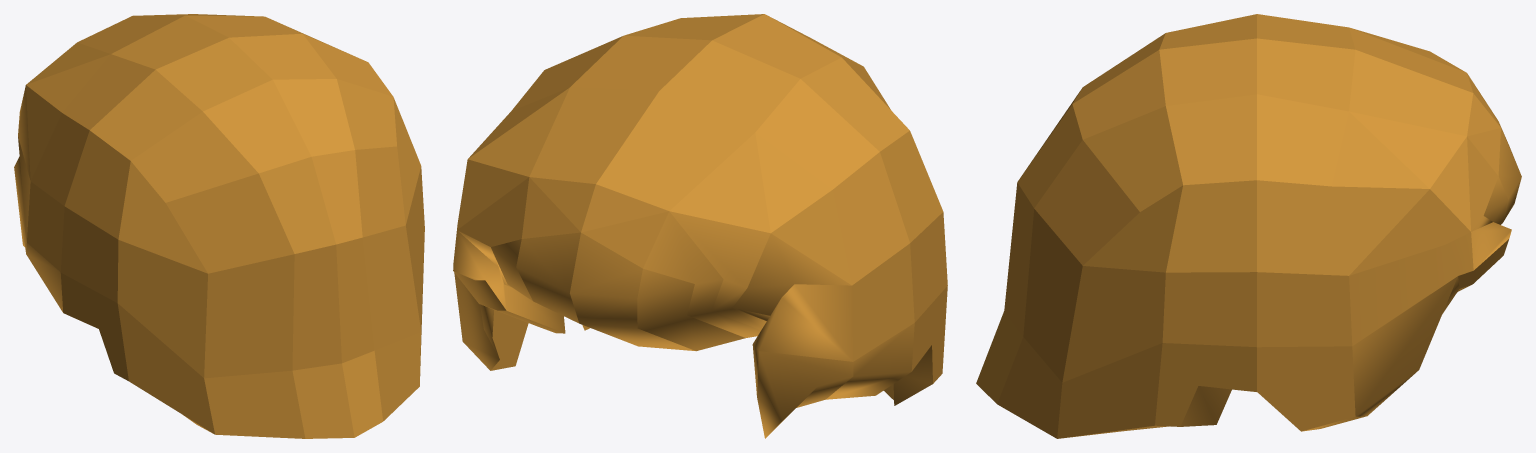
The model's file is trumphair.fbx.
The picture shows the model from 3 angles, left to right: view 1: azimuth 30°, elevation 25°; view 2: azimuth 150°, elevation 25°; view 3: azimuth 270°, elevation 25°; orthographic projection. The views are drawn at different scales.
Visible parts, largest first — view 1: Cube.002; view 2: Cube.002; view 3: Cube.002.
Boxes of the visible parts, bbox=[...] form: Cube.002: bbox=[14, 14, 424, 438]; Cube.002: bbox=[453, 14, 947, 438]; Cube.002: bbox=[976, 14, 1521, 438].
Bounding box in the file's own units: 112 × 102 × 141.
